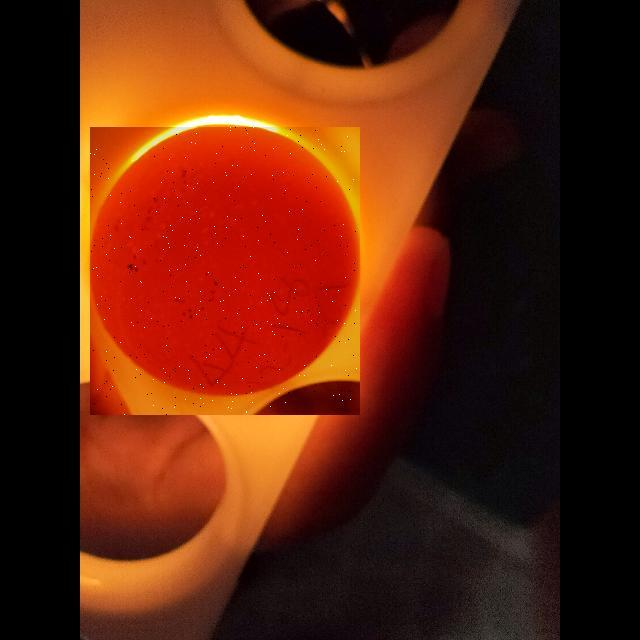Infertile: (90, 127, 360, 415)
